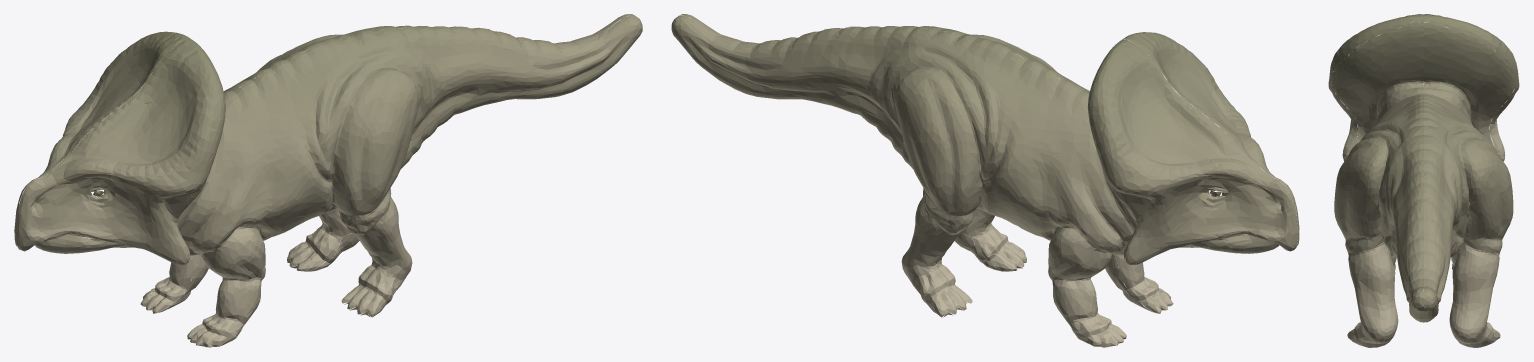
File: protoceratops.glb
3 renders of one model, left to right at view 1: azimuth 30°, elevation 25°; view 2: azimuth 150°, elevation 25°; view 3: azimuth 270°, elevation 25°, orthographic. The views are drawn at different scales.
Parts seen in each view (by area): view 1: protoceratops_simplified.obj; view 2: protoceratops_simplified.obj; view 3: protoceratops_simplified.obj.
Boxes of the visible parts, x1,y1,x2,y2 form: protoceratops_simplified.obj: (14,14,642,347); protoceratops_simplified.obj: (671,14,1299,347); protoceratops_simplified.obj: (1328,14,1519,347).
Size of the model in its own units: 2 by 0.8677 by 0.5801.
